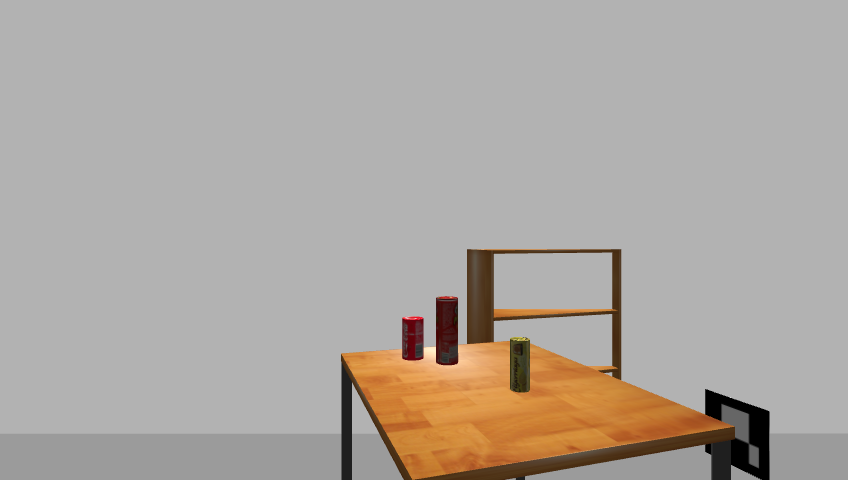aruco marker: (699, 388, 776, 479)
biscuits pack: (509, 337, 532, 394)
bookshelf: (461, 245, 628, 399)
coke can: (400, 316, 425, 362)
dinner table: (332, 341, 740, 480)
pringles can: (434, 295, 461, 367)
